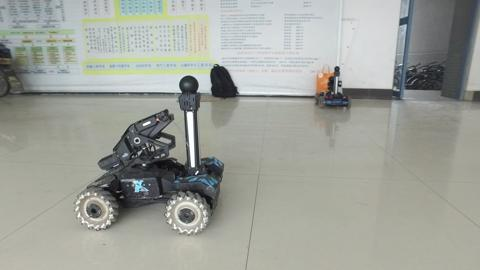bag: (204, 62, 247, 103)
chariot: (66, 74, 228, 235), (310, 65, 352, 111)
